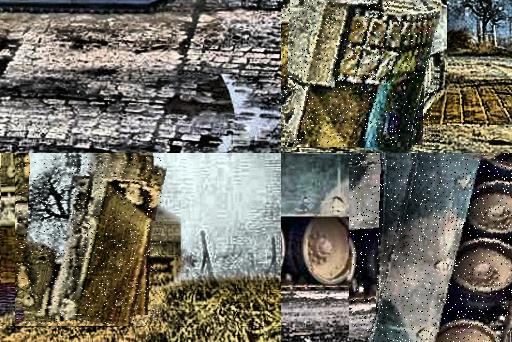tanks: (368, 154, 512, 342), (17, 158, 162, 326), (282, 1, 440, 147)
